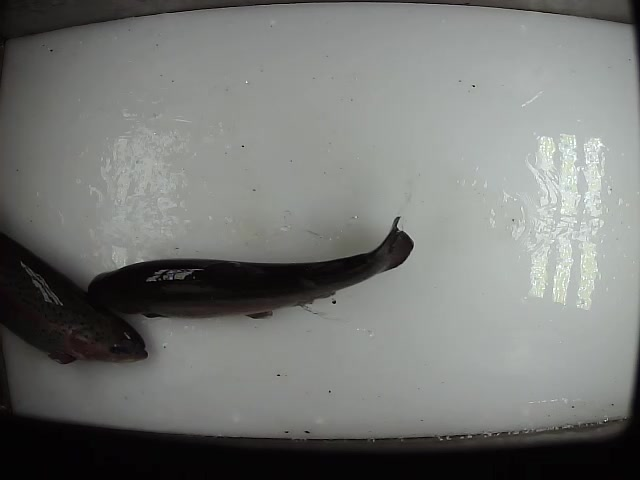fish: (84, 212, 417, 320), (1, 229, 151, 365)
